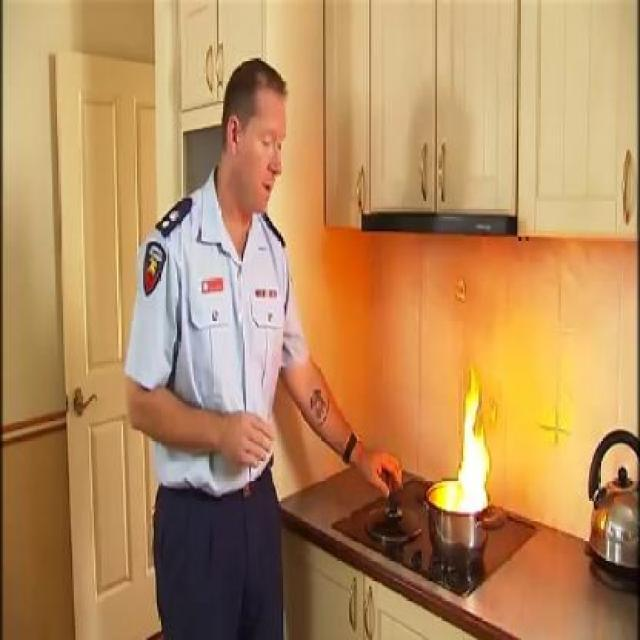fire: (442, 349, 492, 517)
